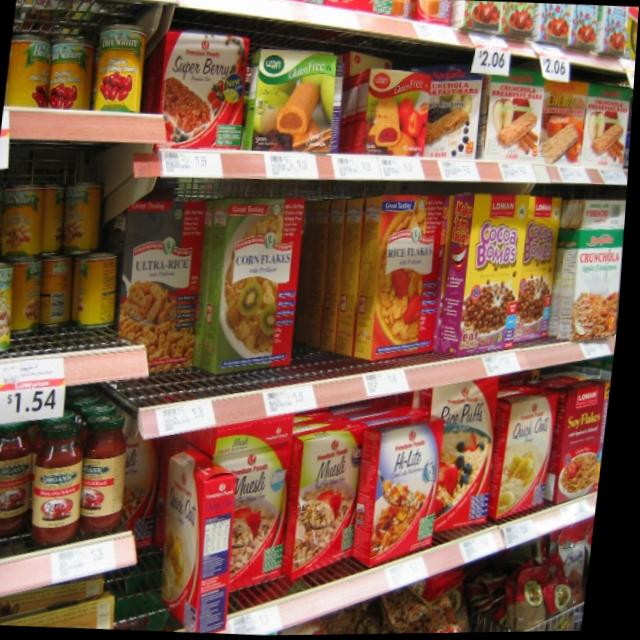q271: (360, 418, 452, 555)
